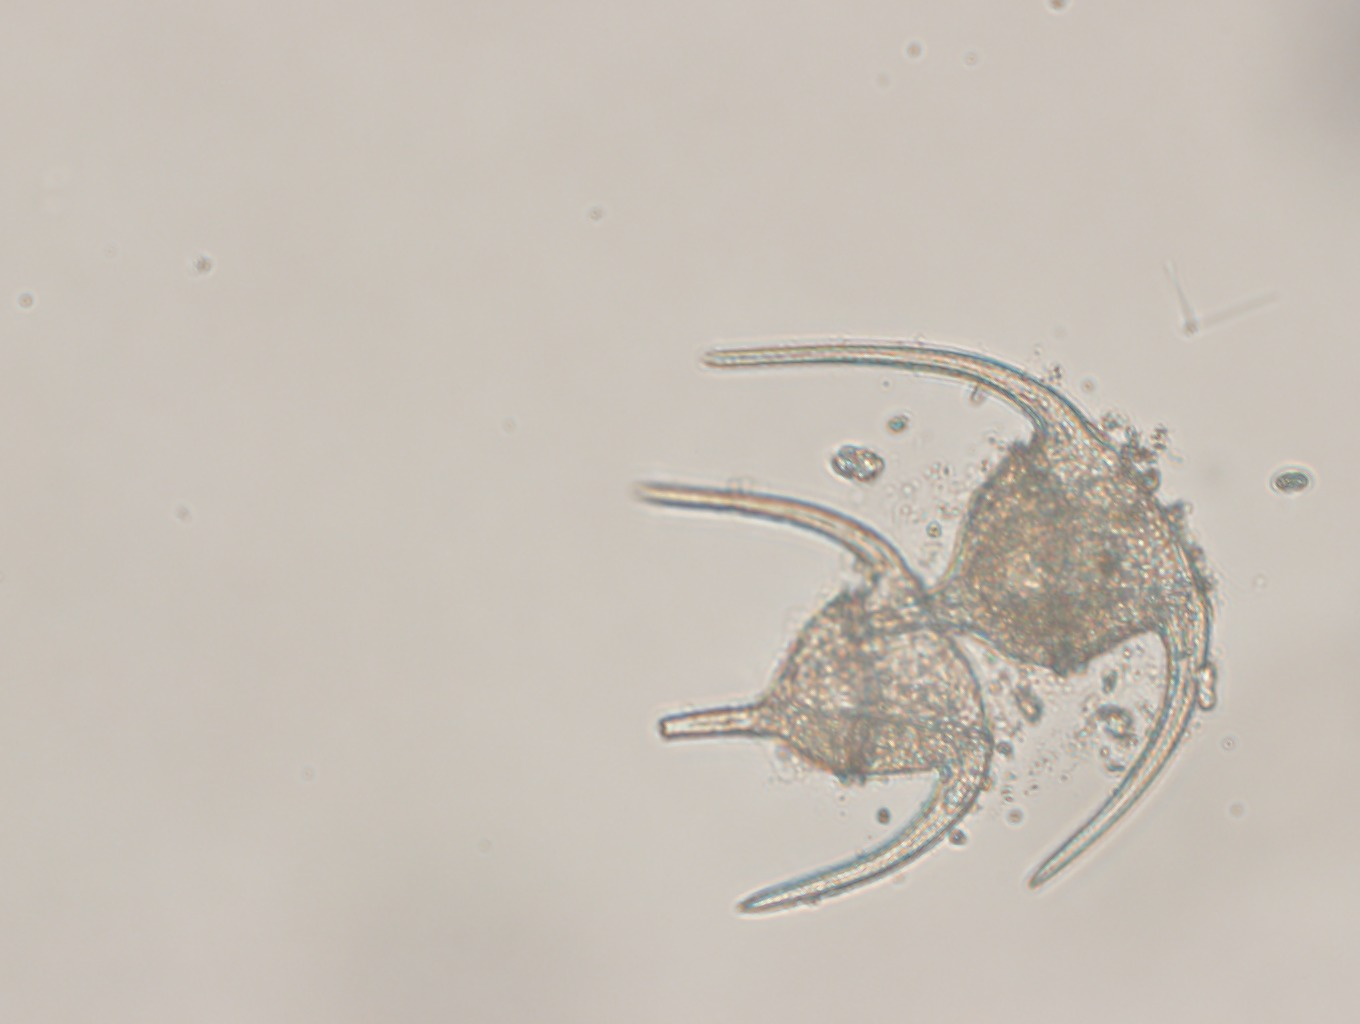ceratium tripos: (691, 335, 1225, 896), (622, 467, 1000, 916)
